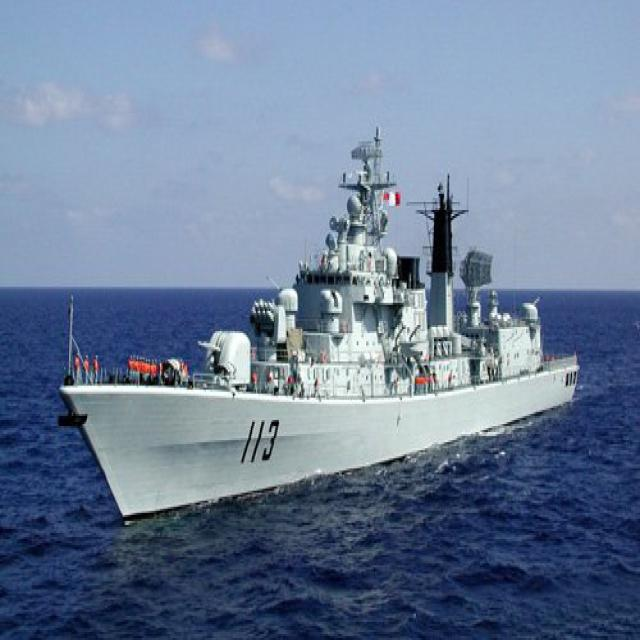navalvessels: (58, 106, 593, 518)
